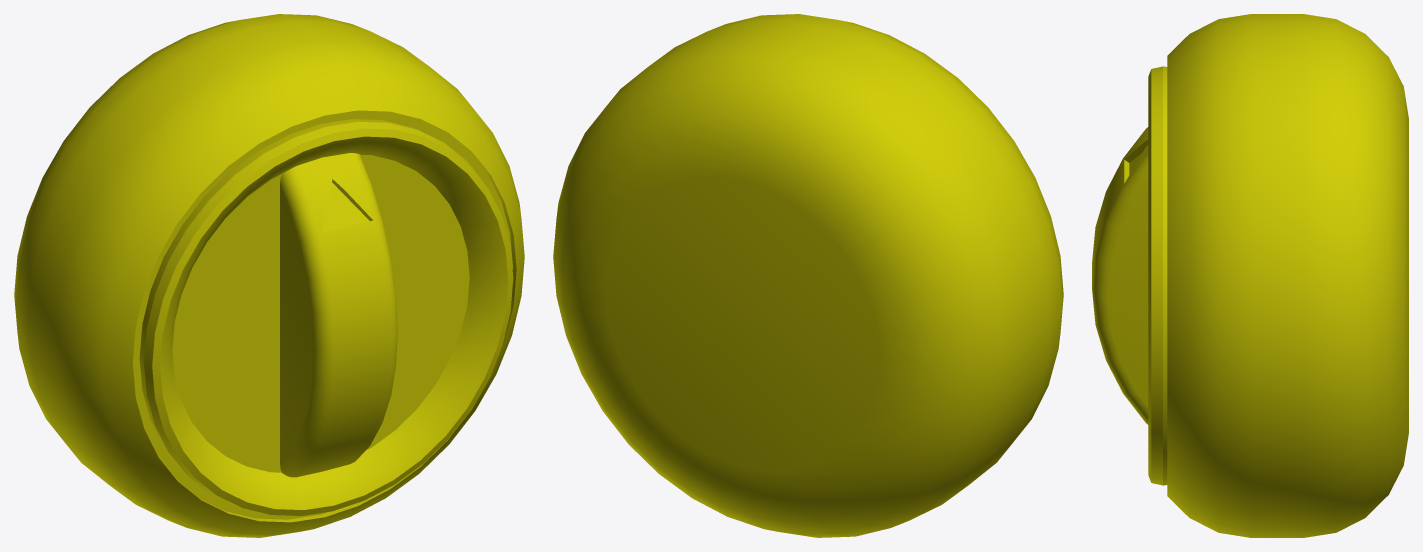
Rendered from KNOB.fbx.
3 views of the same model, side by side, from view 1: azimuth 30°, elevation 25°; view 2: azimuth 150°, elevation 25°; view 3: azimuth 270°, elevation 25° (orthographic).
Visible parts, largest first — view 1: Boole_1; view 2: Boole_1; view 3: Boole_1.
Boxes of the visible parts, x1,y1,x2,y2 form: Boole_1: (14, 14, 524, 537); Boole_1: (553, 14, 1063, 537); Boole_1: (1092, 14, 1408, 537).
Bounding box in the file's own units: 100 × 100 × 60.25.
